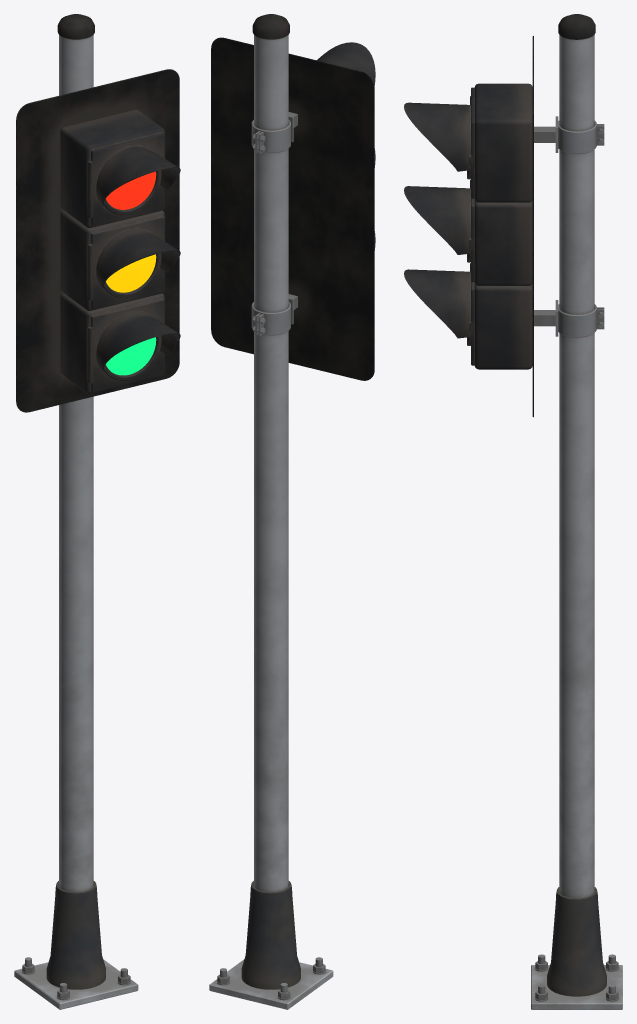
File: traffic-light.glb
The picture shows the model from 3 angles, left to right: view 1: azimuth 30°, elevation 25°; view 2: azimuth 150°, elevation 25°; view 3: azimuth 270°, elevation 25°; orthographic projection.
Visible parts, largest first — view 1: traffic-light_body, traffic-light_lens_red, traffic-light_lens_yellow, traffic-light_lens_green; view 2: traffic-light_body; view 3: traffic-light_body.
Part boxes in pixels (bbox=[...]): traffic-light_body: bbox=[14, 14, 180, 1009]; traffic-light_lens_red: bbox=[105, 171, 156, 209]; traffic-light_lens_yellow: bbox=[106, 254, 156, 292]; traffic-light_lens_green: bbox=[106, 337, 156, 375]; traffic-light_body: bbox=[209, 14, 375, 1009]; traffic-light_body: bbox=[404, 14, 622, 1009].
Bounding box in the file's own units: 0.62 × 3.5 × 0.714.
4 materials, 1 textured.
